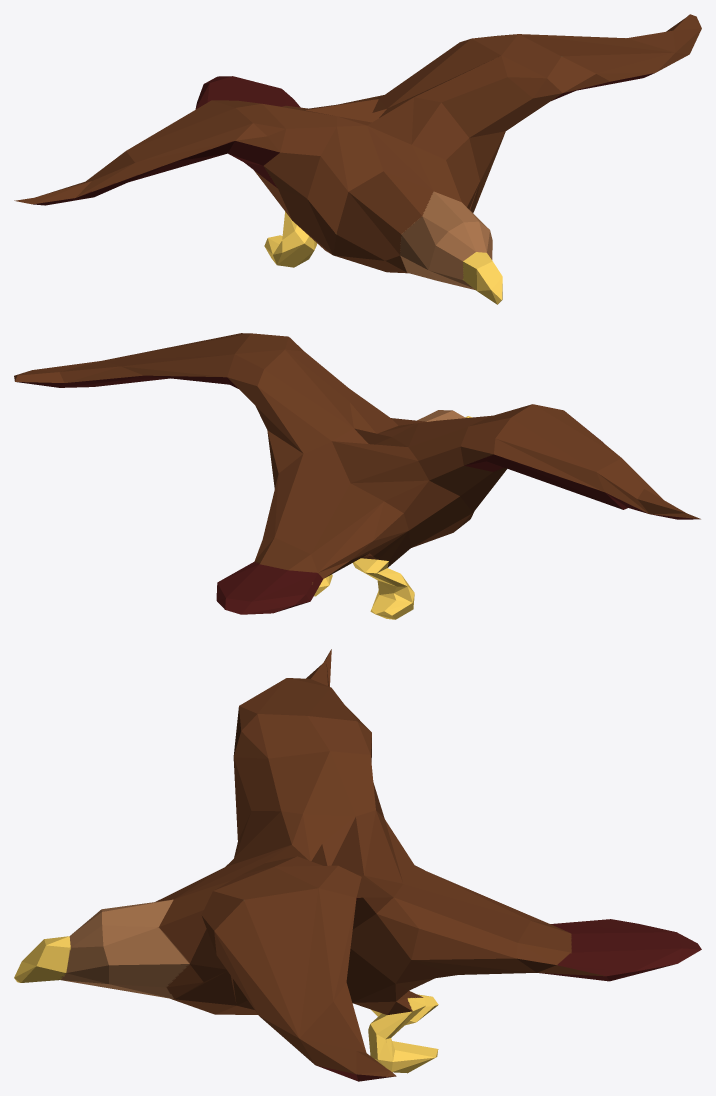
File: aguili_000041.obj
3 renders of one model, top to bottom at view 1: azimuth 30°, elevation 25°; view 2: azimuth 150°, elevation 25°; view 3: azimuth 270°, elevation 25°, orthographic. The views are drawn at different scales.
Parts seen in each view (by area): view 1: aguila.001_Cube.001; view 2: aguila.001_Cube.001; view 3: aguila.001_Cube.001.
Boxes of the visible parts, bbox=[...] form: aguila.001_Cube.001: bbox=[14, 14, 701, 304]; aguila.001_Cube.001: bbox=[14, 333, 700, 619]; aguila.001_Cube.001: bbox=[14, 649, 701, 1081].
Bounding box in the file's own units: 82.34 × 22.93 × 56.5.
1 material, 1 textured.
